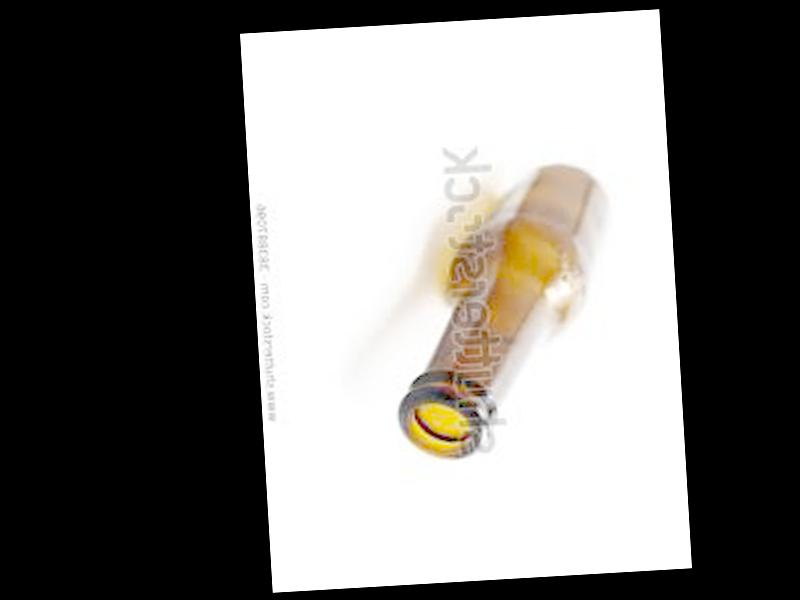Beer: (382, 160, 622, 463)
